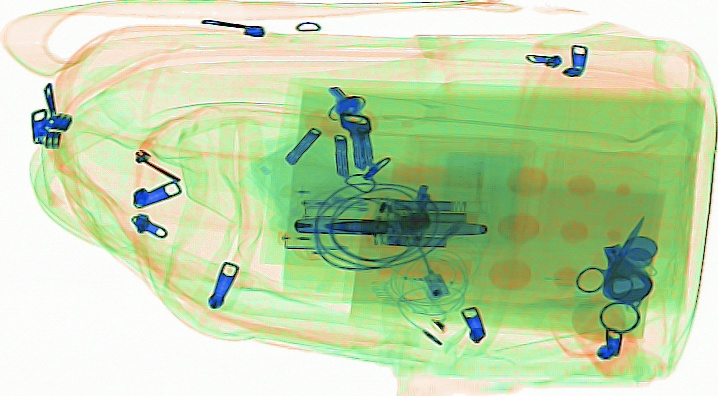scissors: (575, 215, 649, 299)
